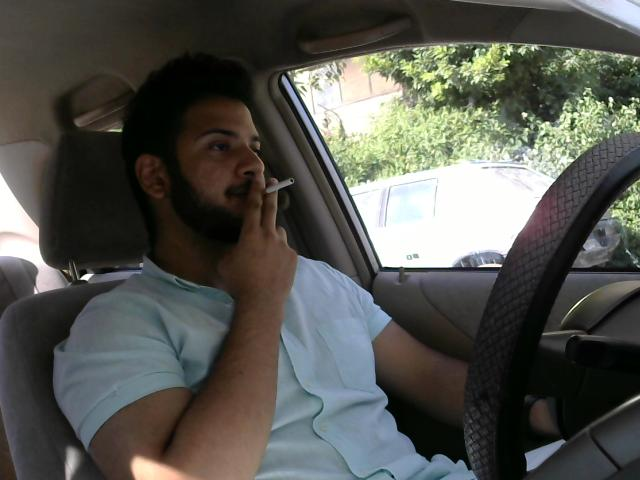Smoking: (244, 175, 302, 202)
